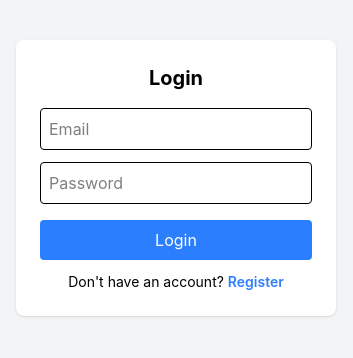
it: Auth integration › shows error message on failed login
The image size is (353, 358).
Type "wrong@gmail.com" into the field with placeholder "Email" at (176, 129), box left=40, top=108, right=312, bottom=150
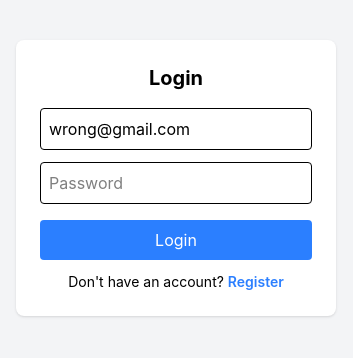
Type "wrongpass" into the password field with placeholder "Password" at (176, 183), box left=40, top=162, right=312, bottom=204
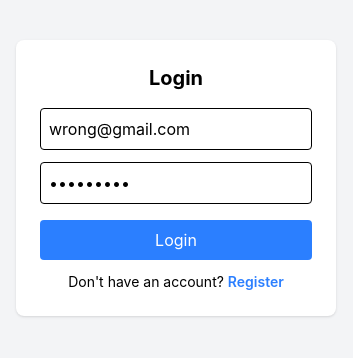
Click the button "Login" at (176, 240), box left=40, top=220, right=312, bottom=260
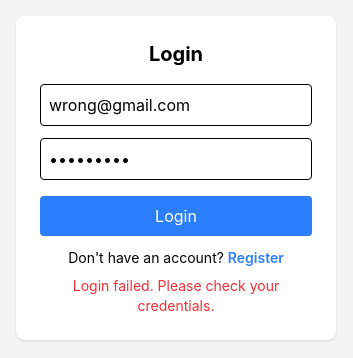
Check: the text "Login failed. Please check your credentials." is shown, box left=73, top=277, right=279, bottom=314
